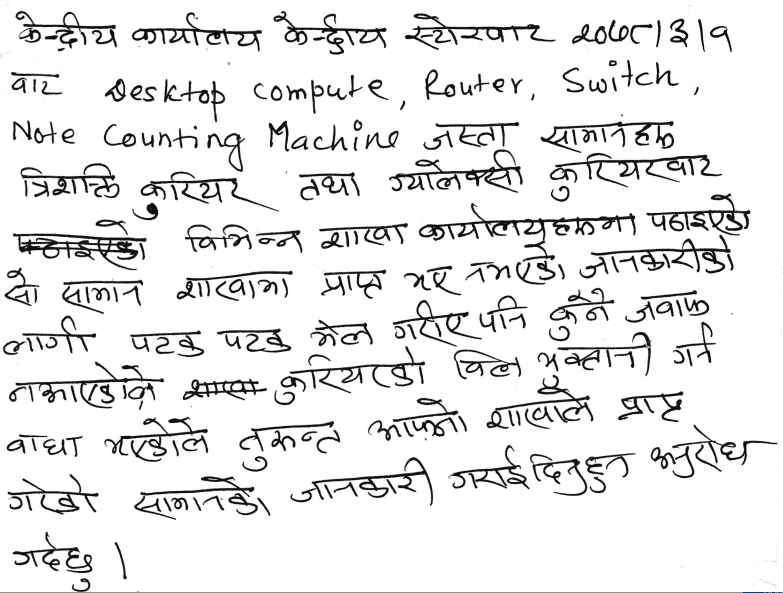text: (416, 199, 638, 240), (272, 351, 428, 409), (545, 153, 723, 199), (8, 360, 160, 412), (578, 236, 739, 285), (288, 455, 439, 507), (131, 168, 273, 221), (132, 474, 275, 526), (536, 332, 655, 387), (405, 10, 554, 53), (648, 423, 756, 479), (386, 151, 525, 194), (11, 529, 103, 593), (270, 8, 390, 57), (569, 18, 741, 52), (236, 417, 345, 470), (129, 12, 265, 53), (485, 386, 599, 434), (102, 414, 210, 463), (527, 451, 634, 497), (11, 8, 117, 54), (462, 243, 568, 287), (369, 399, 469, 445), (536, 122, 683, 153), (173, 267, 295, 303), (14, 161, 121, 202), (645, 197, 754, 237), (3, 475, 104, 515), (391, 302, 479, 347), (448, 445, 530, 493), (184, 223, 305, 255), (1, 318, 96, 355), (56, 278, 145, 315), (548, 289, 612, 339), (625, 289, 712, 324), (448, 343, 527, 380), (421, 119, 515, 150), (315, 222, 411, 251), (614, 388, 685, 427), (125, 328, 206, 361), (316, 266, 388, 301), (5, 428, 85, 459), (291, 169, 361, 203), (219, 327, 292, 359), (479, 291, 532, 332), (668, 324, 717, 367), (400, 262, 454, 298), (1, 265, 44, 308), (311, 318, 375, 346), (5, 70, 65, 98)
